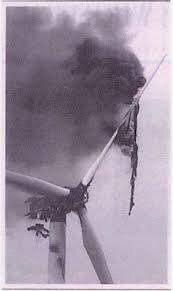faulty: (45, 79, 147, 230)
